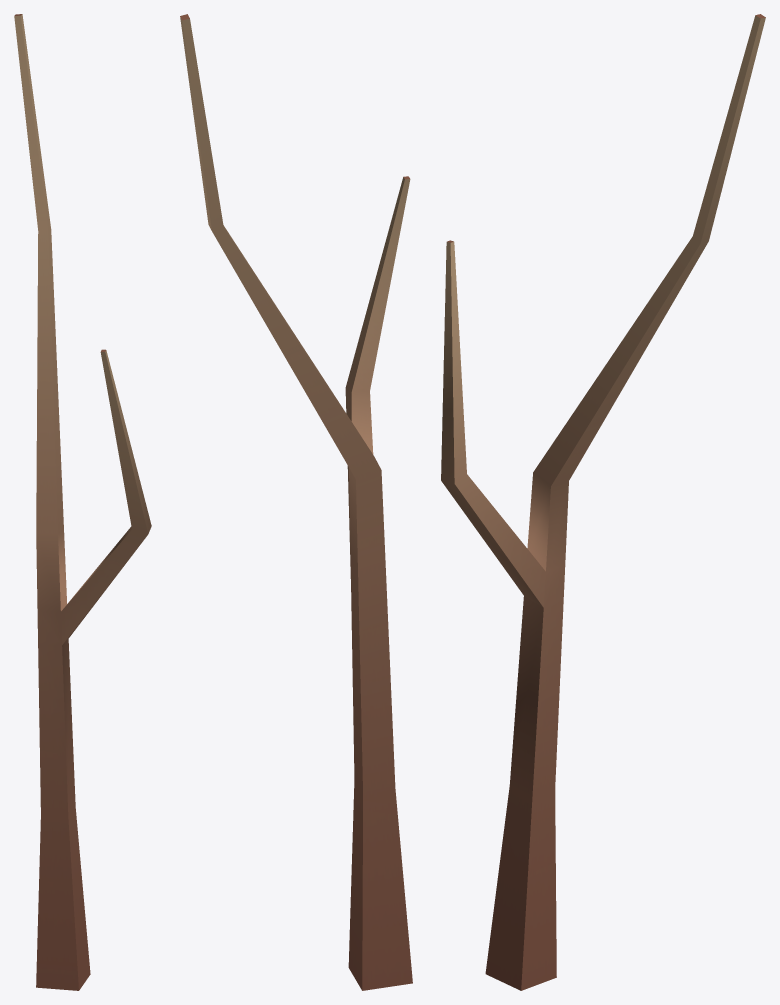
The model's file is Cavern_TreeDead_Sml-01.fbx.
3 views of the same model, side by side, from view 1: azimuth 30°, elevation 25°; view 2: azimuth 150°, elevation 25°; view 3: azimuth 270°, elevation 25° (orthographic). The views are drawn at different scales.
Parts seen in each view (by area): view 1: Cavern_TreeDead_Sml-01; view 2: Cavern_TreeDead_Sml-01; view 3: Cavern_TreeDead_Sml-01.
Boxes of the visible parts, x1,y1,x2,y2 form: Cavern_TreeDead_Sml-01: [14, 14, 151, 990]; Cavern_TreeDead_Sml-01: [180, 14, 412, 990]; Cavern_TreeDead_Sml-01: [441, 14, 765, 990].
Bounding box in the file's own units: 9.23 × 82.12 × 24.28.
1 material, 1 textured.
